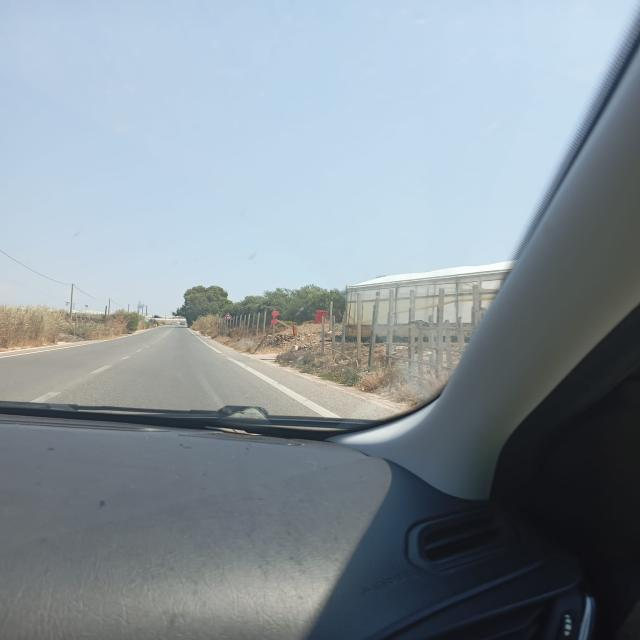warn_right_curve: (222, 312, 235, 321)
